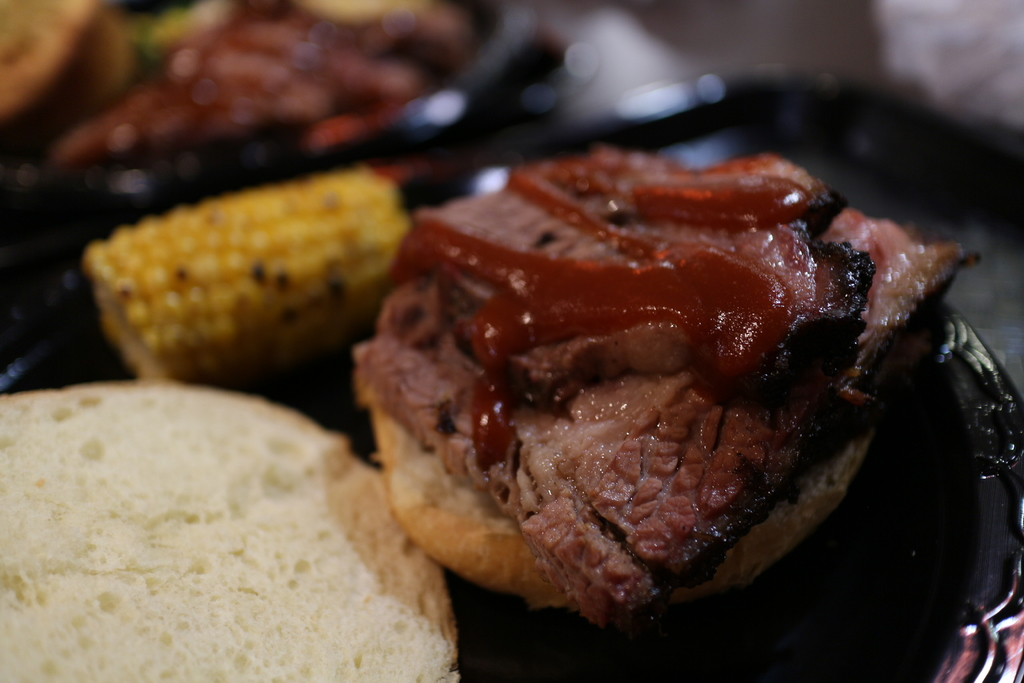Hamburger: (0, 150, 986, 682)
